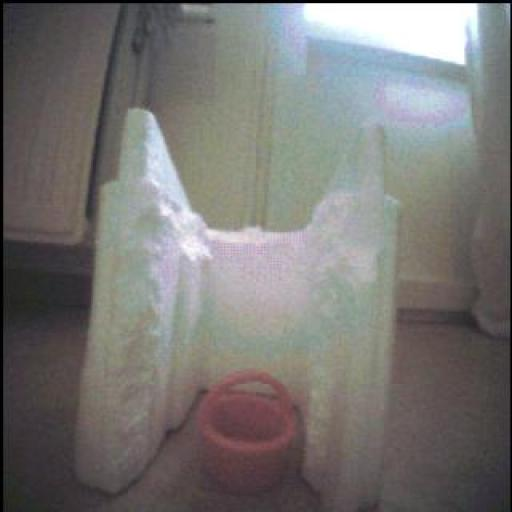Basket: (199, 371, 297, 494)
